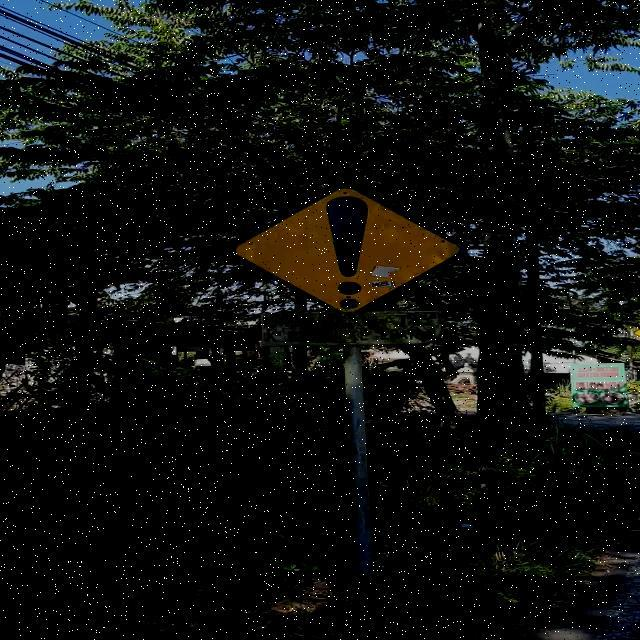Hati-Hati: (229, 183, 466, 311)
